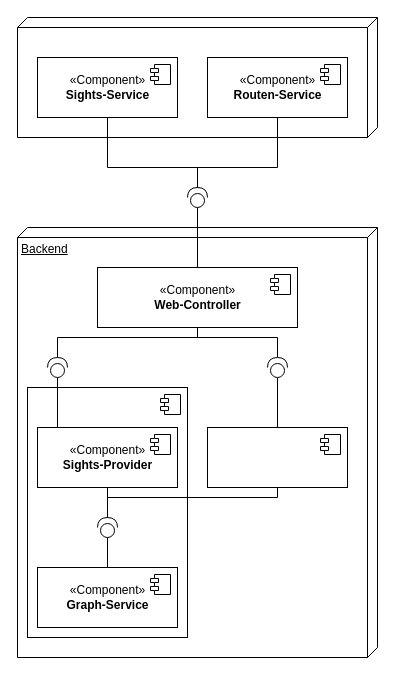
Image size: 395x675. Some labels were removed from this diagram. Here are the shapes that lost their labels. From the top down, the box of each, then its label:
(16, 16, 378, 138): Frontend
(206, 426, 348, 488): «Component» Routen-Provider
(26, 386, 188, 638): «Component» DB-Service
